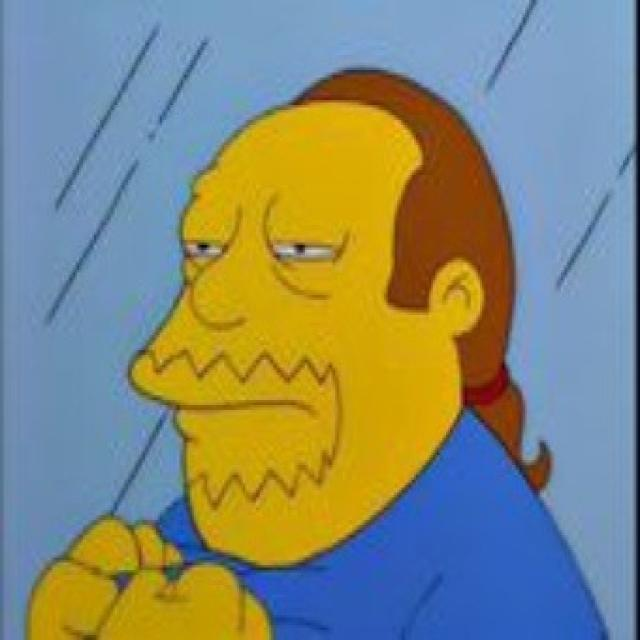Comic Book Guy: (126, 64, 537, 576)
